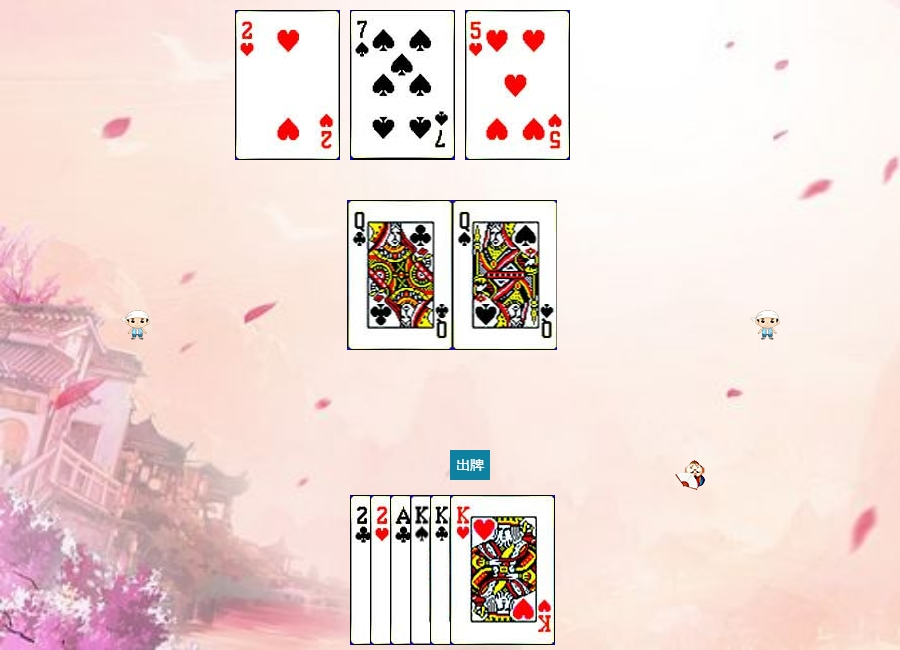12~2: (348, 200, 453, 350)
12~4: (453, 200, 558, 350)
13~2: (430, 495, 535, 645)
13~3: (450, 495, 555, 645)
13~4: (410, 495, 515, 645)
14~2: (390, 495, 495, 645)
15~2: (350, 495, 455, 645)
15~3: (235, 10, 340, 160), (370, 495, 475, 645)
5~3: (465, 10, 570, 160)
7~4: (350, 10, 455, 160)
